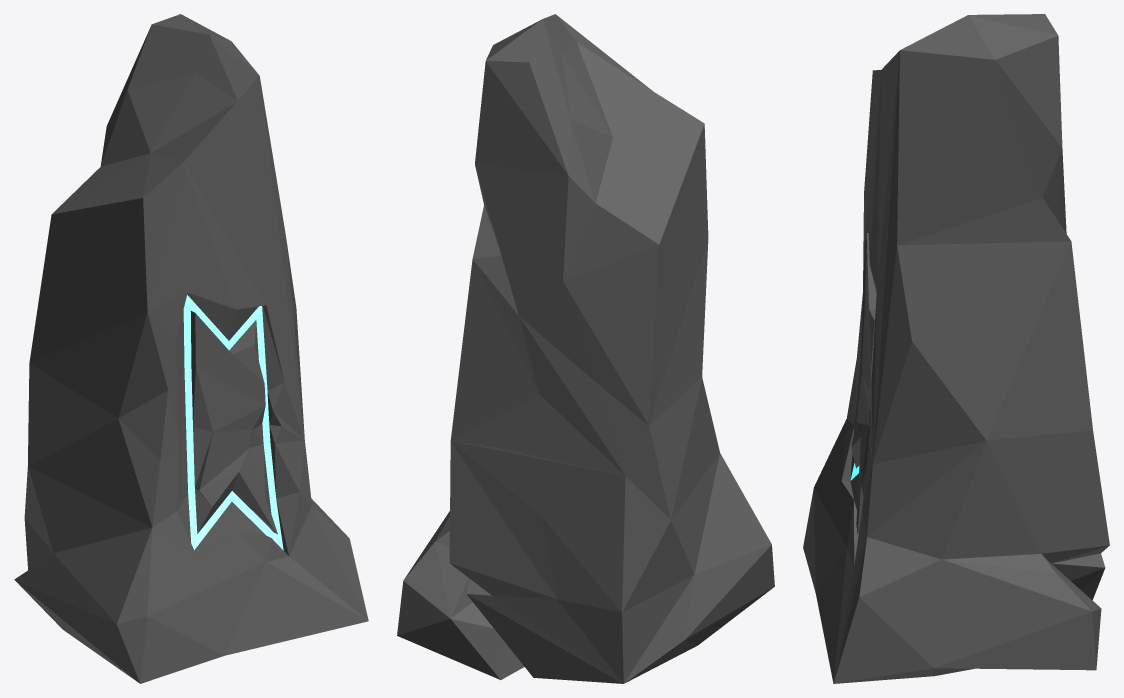
File: SFNP_Runestone_002.fbx
3 renders of one model, left to right at view 1: azimuth 30°, elevation 25°; view 2: azimuth 150°, elevation 25°; view 3: azimuth 270°, elevation 25°, orthographic. The views are drawn at different scales.
Parts seen in each view (by area): view 1: SFNP_Runestone_002; view 2: SFNP_Runestone_002; view 3: SFNP_Runestone_002.
Boxes of the visible parts, box(x1,y1,x2,y2) form: SFNP_Runestone_002: box(14, 14, 368, 683); SFNP_Runestone_002: box(397, 14, 774, 683); SFNP_Runestone_002: box(803, 14, 1109, 683).
Size of the model in its own units: 82.24 by 174 by 75.72.
